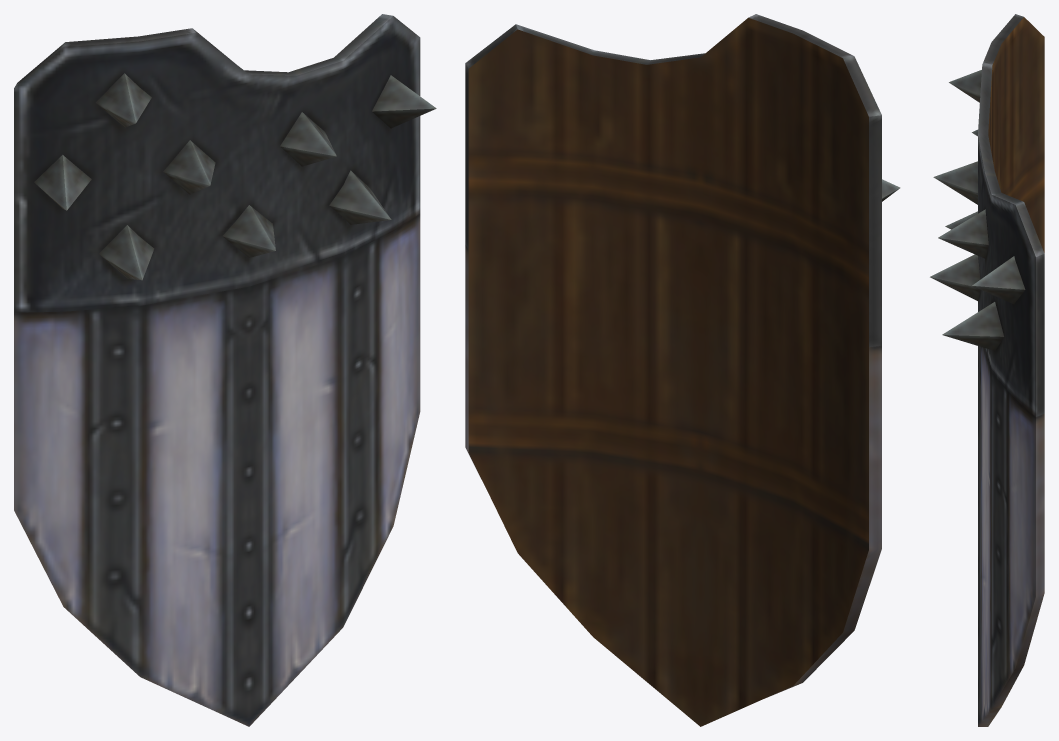
The model's file is Shield09.FBX.
3 renders of one model, left to right at view 1: azimuth 30°, elevation 25°; view 2: azimuth 150°, elevation 25°; view 3: azimuth 270°, elevation 25°, orthographic. The views are drawn at different scales.
Visible parts, largest first — view 1: Shield09; view 2: Shield09; view 3: Shield09.
Part boxes in pixels (x1=…): Shield09: x1=14, y1=14, x2=436, y2=726; Shield09: x1=465, y1=14, x2=900, y2=726; Shield09: x1=930, y1=14, x2=1044, y2=726.
Bounding box in the file's own units: 54.04 × 89.59 × 14.62.
